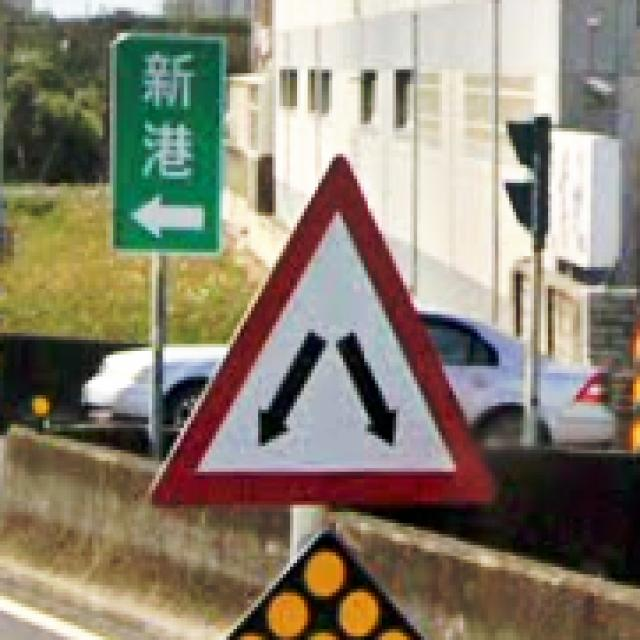diverge: (145, 150, 499, 512)
